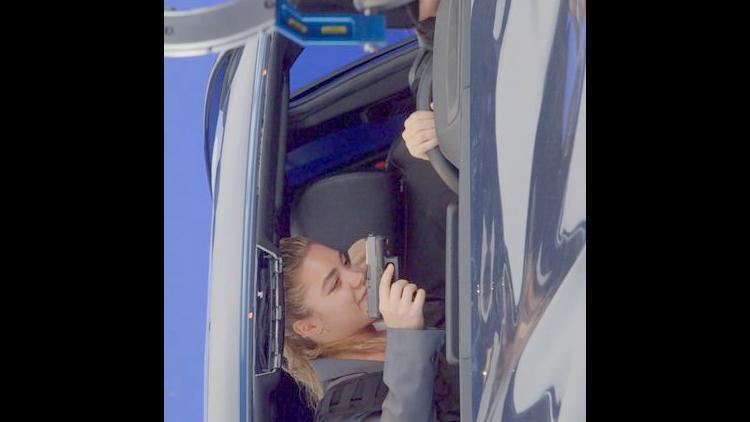gun: (364, 232, 408, 320)
